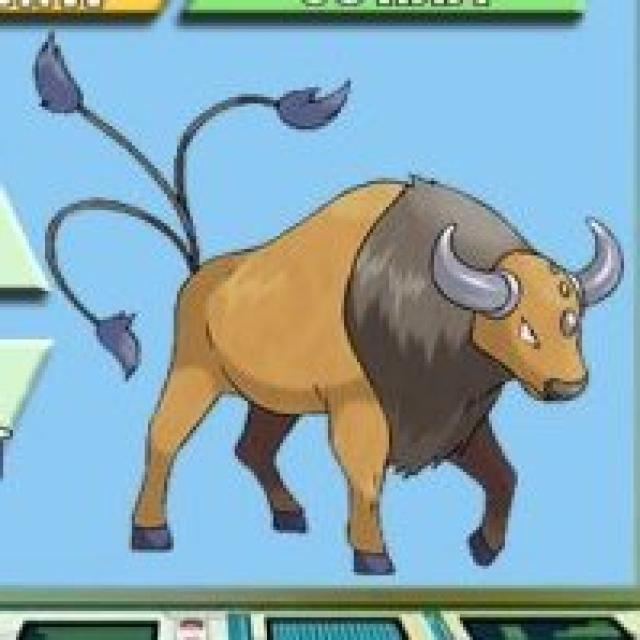Tauros: (116, 166, 625, 573)
